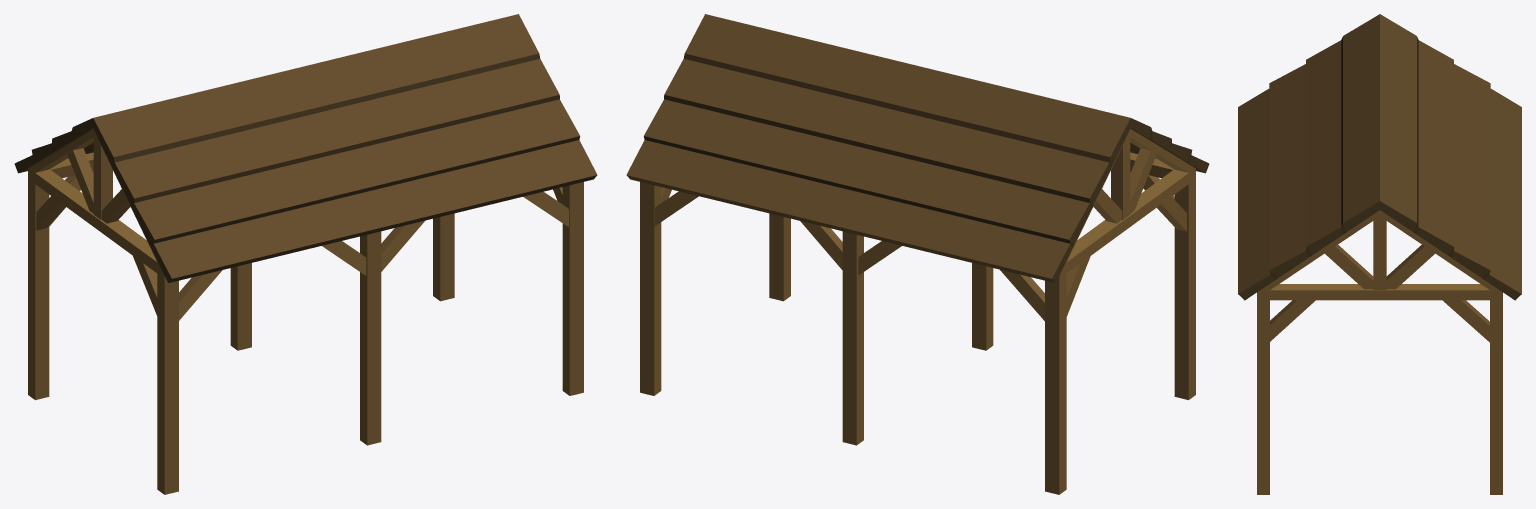
The model's file is OutdoorCover.gltf.
The picture shows the model from 3 angles, left to right: view 1: azimuth 30°, elevation 25°; view 2: azimuth 150°, elevation 25°; view 3: azimuth 270°, elevation 25°; orthographic projection. The views are drawn at different scales.
Parts seen in each view (by area): view 1: SF_Bld_OutdoorCover_01; view 2: SF_Bld_OutdoorCover_01; view 3: SF_Bld_OutdoorCover_01.
Part boxes in pixels (x1,y1,x2,y2): SF_Bld_OutdoorCover_01: (14,14,597,494); SF_Bld_OutdoorCover_01: (626,14,1209,494); SF_Bld_OutdoorCover_01: (1238,14,1521,494).
Bounding box in the file's own units: 0.1345 × 0.099 × 0.0863.
1 material, 1 textured.
